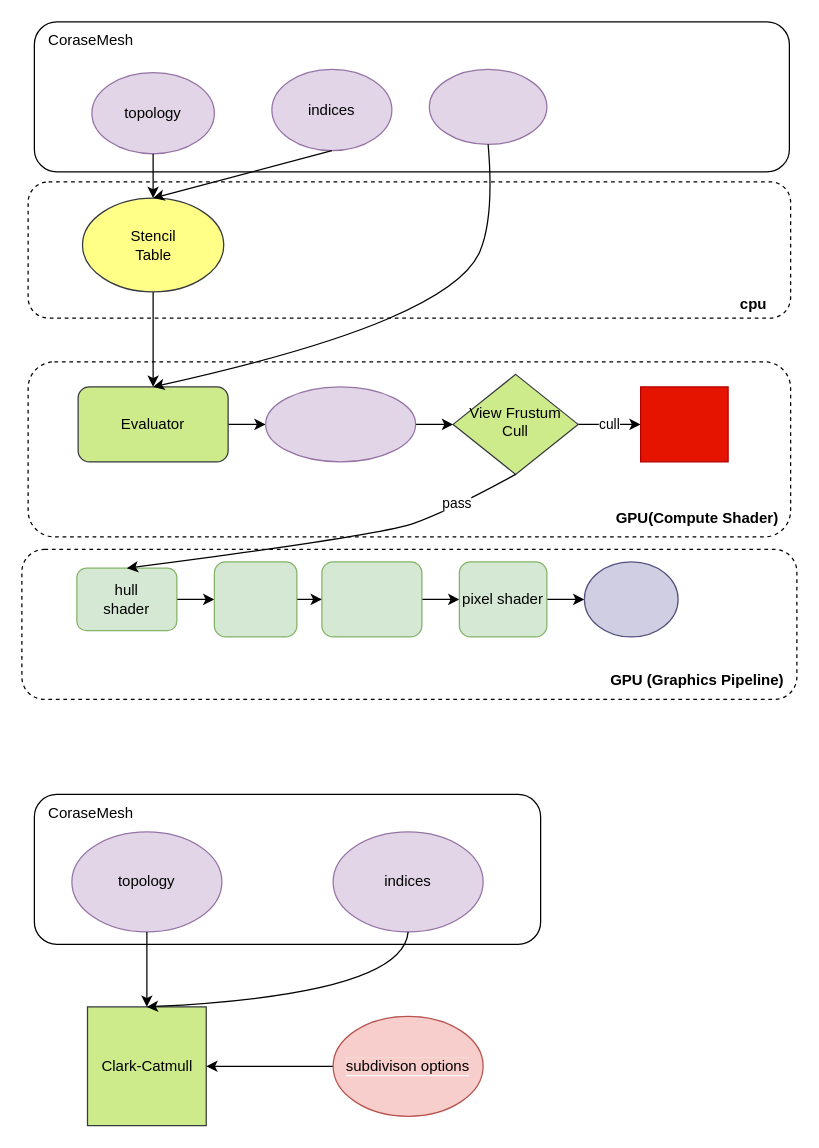
The diagram is 819 pixels wide and 1148 high, and some of its shapes have lost their labels. Here are the shapes that lost their labels. From the top down, the centre of each, then its label:
[487,106]: vertices
[340,424]: subdivison patches
[683,424]: Discard
[255,599]: tessellation
[371,599]: domain shader
[630,599]: refined mesh
